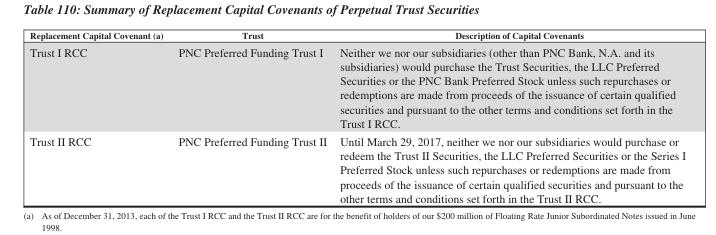table: (29, 29, 685, 204)
table column: (332, 29, 685, 204), (170, 29, 332, 204), (29, 29, 170, 204)
table column header: (29, 29, 685, 42)
table row: (29, 42, 685, 131), (29, 131, 685, 204), (29, 29, 685, 42)
